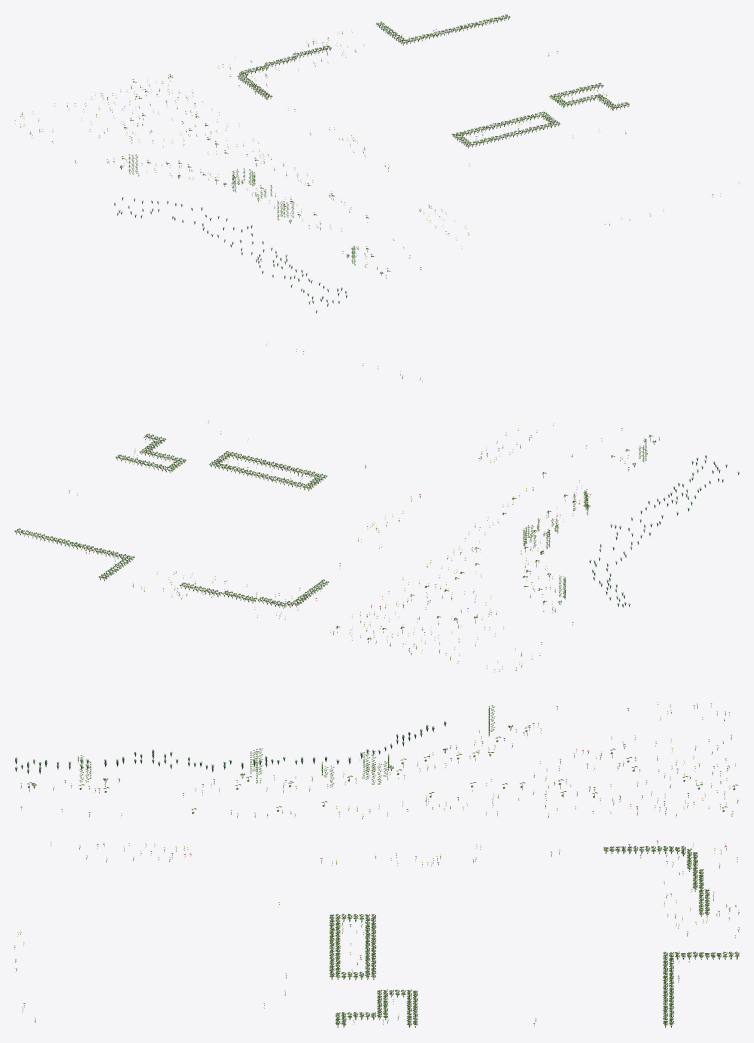
3 views of the same model, one above another, from view 1: azimuth 30°, elevation 25°; view 2: azimuth 150°, elevation 25°; view 3: azimuth 270°, elevation 25° (orthographic). The views are drawn at different scales.
Parts seen in each view (by area): view 1: GROUND_FLORA_s_-7_1; view 2: GROUND_FLORA_s_-7_1; view 3: GROUND_FLORA_s_-7_1.
Part boxes in pixels (box(x1,y1,x2,y2)): GROUND_FLORA_s_-7_1: box(14, 14, 739, 313); GROUND_FLORA_s_-7_1: box(14, 342, 739, 672); GROUND_FLORA_s_-7_1: box(14, 702, 739, 1027).
Bounding box in the file's own units: 128 × 9 × 122.
